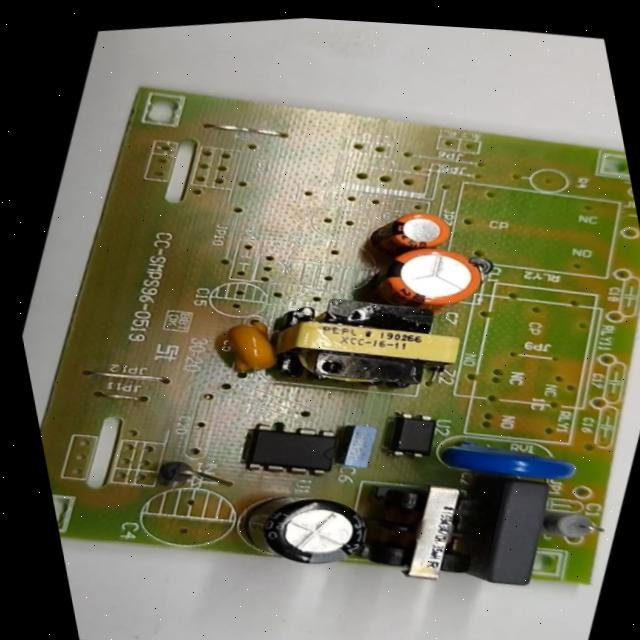Cap1: (372, 236, 498, 320)
Cap2: (360, 200, 462, 260)
Cap3: (231, 480, 384, 585)
MOSFET: (234, 413, 349, 488)
Mov: (434, 429, 583, 498)
Resistor: (540, 504, 611, 547)
Transformer: (256, 272, 488, 423), (348, 471, 500, 595)
